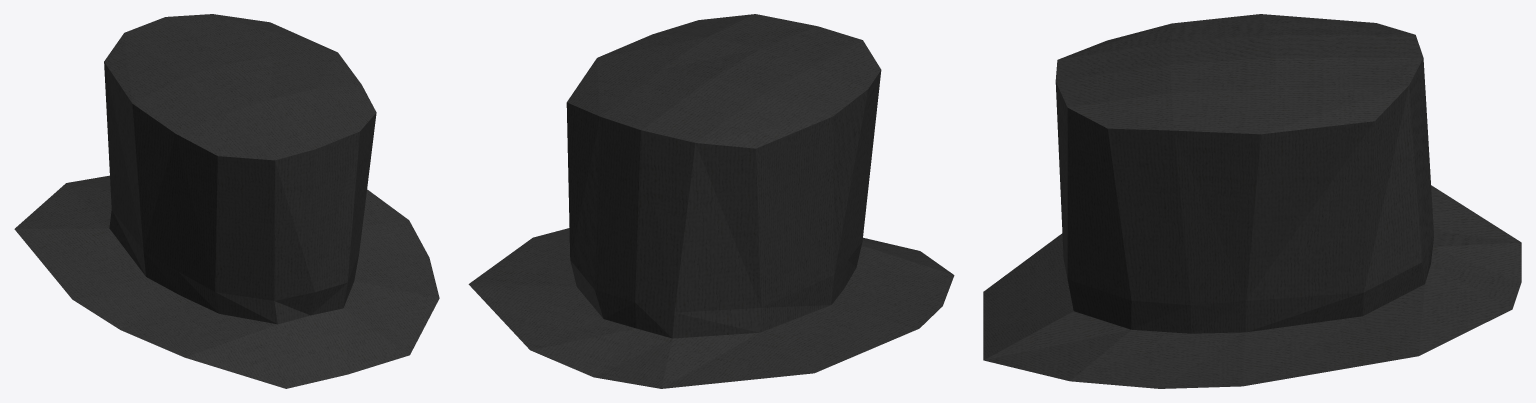
The model's file is gentlemanHat.fbx.
The picture shows the model from 3 angles, left to right: view 1: azimuth 30°, elevation 25°; view 2: azimuth 150°, elevation 25°; view 3: azimuth 270°, elevation 25°; orthographic projection. The views are drawn at different scales.
Parts seen in each view (by area): view 1: topHat; view 2: topHat; view 3: topHat.
Part boxes in pixels (bbox=[...]): topHat: bbox=[14, 14, 439, 388]; topHat: bbox=[468, 14, 954, 388]; topHat: bbox=[983, 14, 1521, 388].
Size of the model in its own units: 29.91 by 19.03 by 34.26.
1 material, 1 textured.
